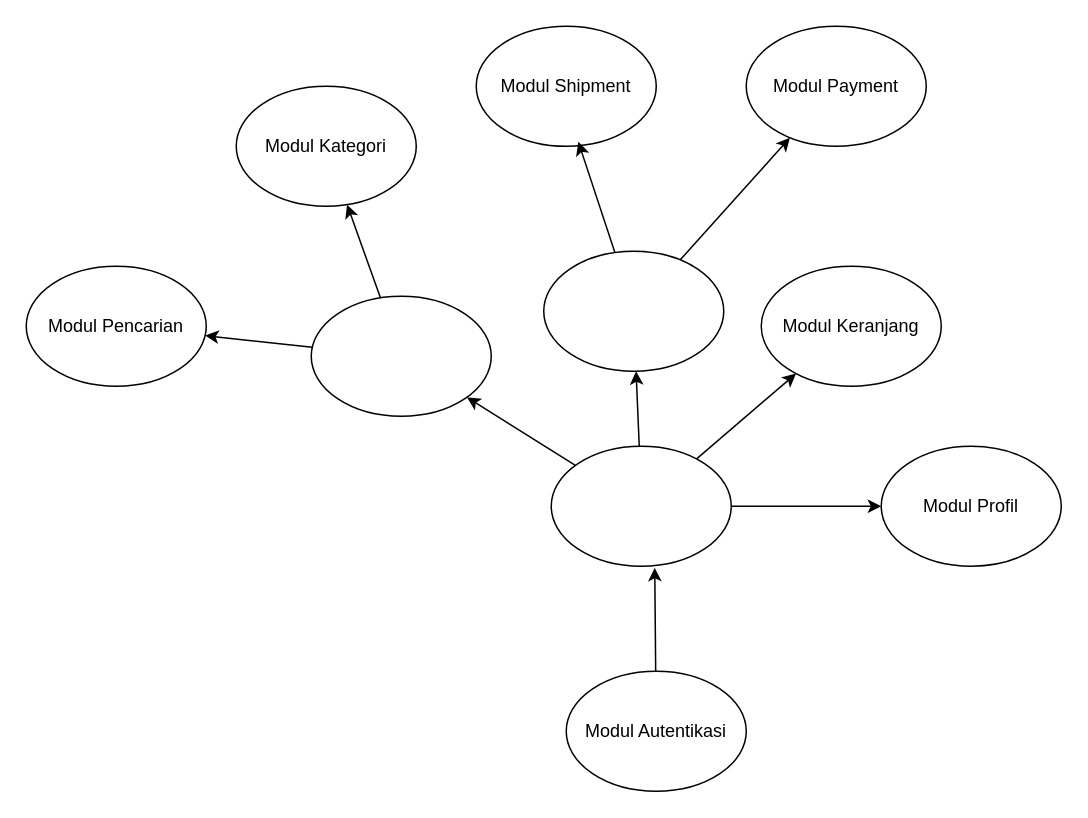
Some shapes in this 1088 by 818 pixel diagram are drawn without their labels. The box of each missing label's shape, as (x1, y1, x2, y2) in pixels:
Modul Katalog Produk Bangunan: (310, 295, 491, 416)
Modul Pengguna: (550, 445, 731, 566)
Modul Pesanan: (542, 250, 724, 371)
